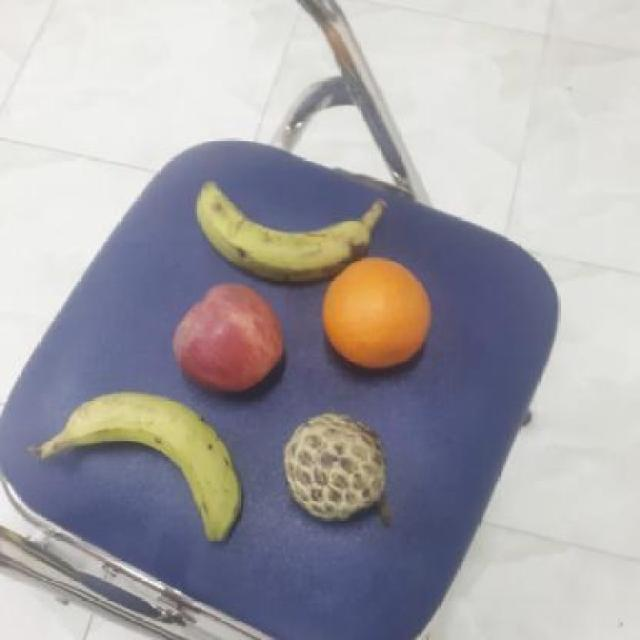apple: (163, 278, 286, 390)
banana: (61, 384, 244, 544), (192, 176, 372, 286)
oren: (320, 258, 434, 373)
sugar apple: (278, 406, 392, 523)
